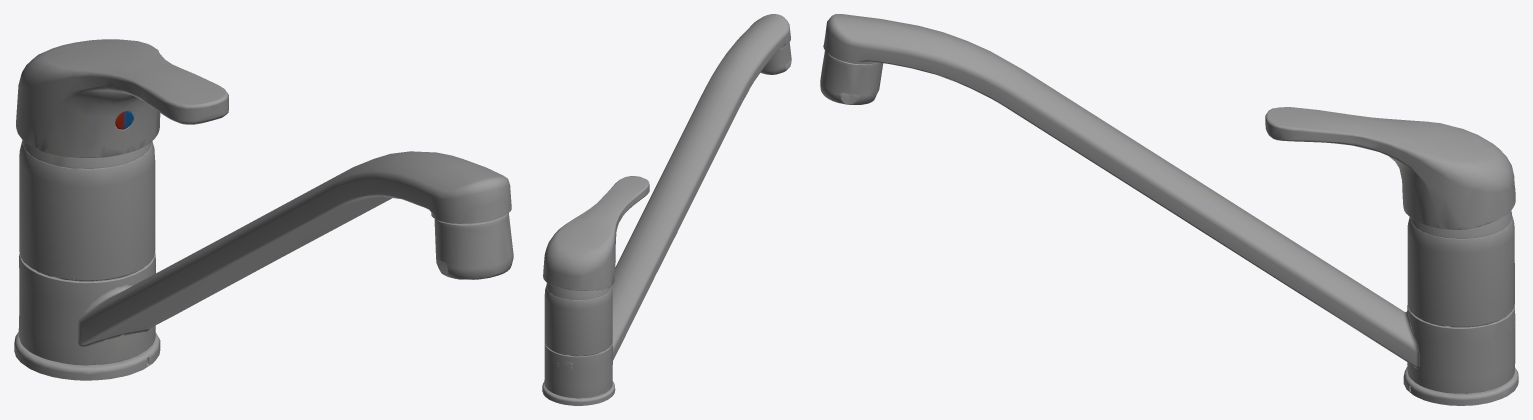
File: LAGAN Mitigeur chromé-scene-512.glb
3 views of the same model, side by side, from view 1: azimuth 30°, elevation 25°; view 2: azimuth 150°, elevation 25°; view 3: azimuth 270°, elevation 25° (orthographic). The views are drawn at different scales.
Parts seen in each view (by area): view 1: 10085027-LAGAN001; view 2: 10085027-LAGAN001; view 3: 10085027-LAGAN001.
Boxes of the visible parts, x1=… form: 10085027-LAGAN001: x1=14, y1=39, x2=513, y2=380; 10085027-LAGAN001: x1=542, y1=14, x2=791, y2=405; 10085027-LAGAN001: x1=820, y1=14, x2=1518, y2=405.
Bounding box in the file's own units: 0.0461 × 0.1605 × 0.2793.
Materials: 1 (1 with a texture image).
